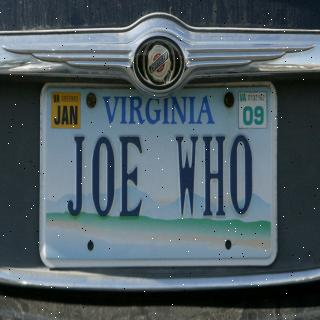license: (41, 83, 279, 268)
